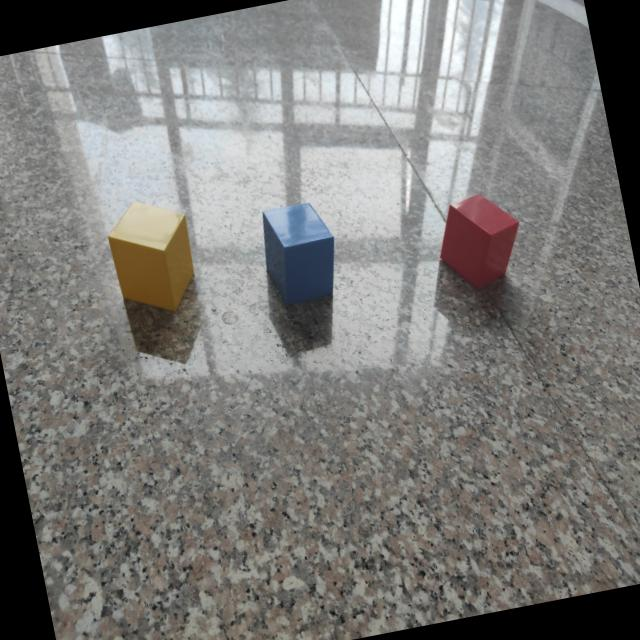blue: (261, 200, 336, 307)
pink: (441, 196, 521, 291)
yellow: (108, 205, 195, 313)
